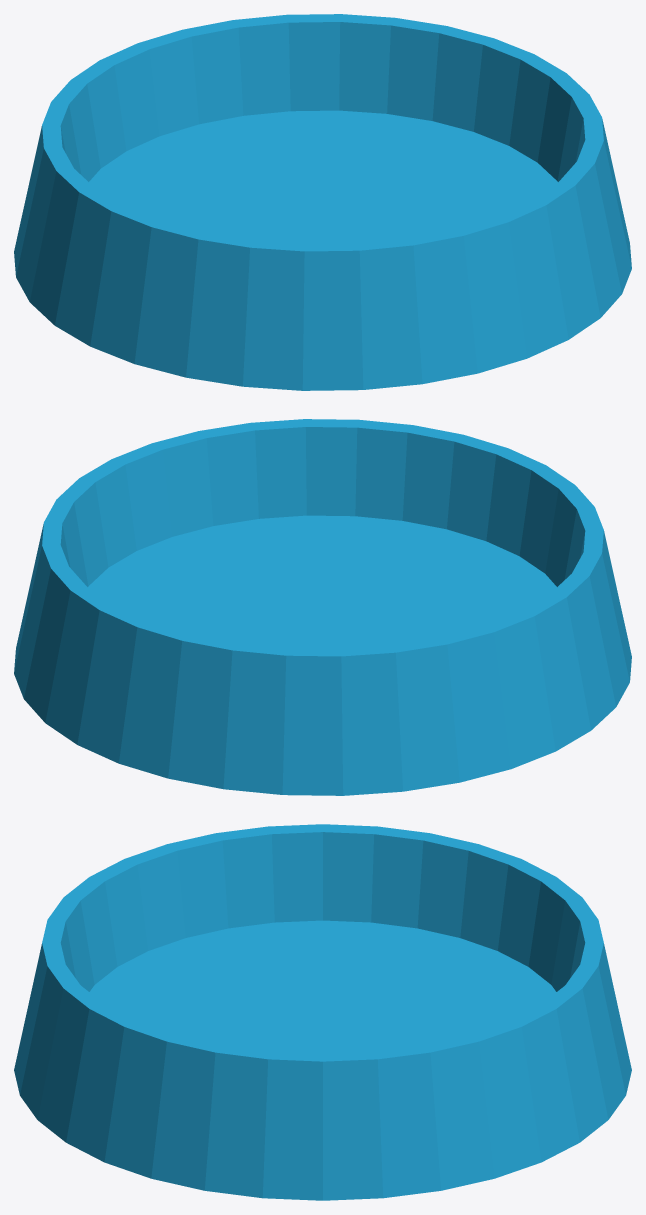
File: waterbak.glb
The picture shows the model from 3 angles, top to bottom: view 1: azimuth 30°, elevation 25°; view 2: azimuth 150°, elevation 25°; view 3: azimuth 270°, elevation 25°; orthographic projection.
Visible parts, largest first — view 1: Cylinder; view 2: Cylinder; view 3: Cylinder.
Boxes of the visible parts, left/top/right/bottom form: Cylinder: left=14, top=14, right=631, bottom=390; Cylinder: left=14, top=419, right=631, bottom=795; Cylinder: left=14, top=824, right=631, bottom=1200.
Size of the model in its own units: 2.2 by 0.5 by 2.2.
